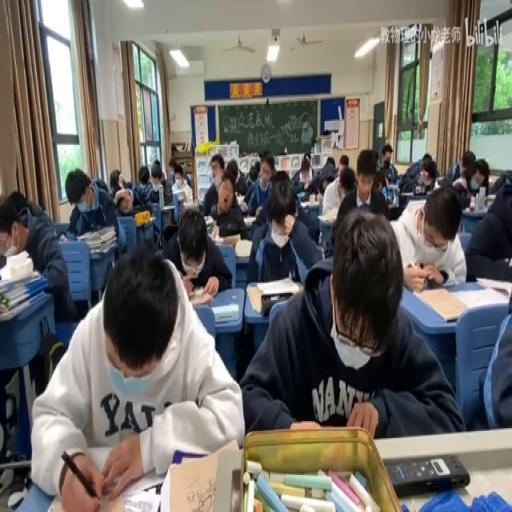calculator: (165, 449, 223, 512), (413, 286, 469, 321), (456, 284, 510, 310), (291, 242, 316, 286), (256, 276, 301, 294), (212, 302, 238, 324), (186, 288, 212, 306), (246, 284, 262, 312), (234, 236, 252, 256), (316, 208, 338, 224), (218, 232, 240, 247), (462, 202, 492, 213), (298, 194, 320, 208), (400, 189, 426, 198), (383, 185, 395, 203), (205, 216, 216, 235), (234, 192, 246, 208), (181, 200, 197, 212), (242, 215, 256, 226), (176, 188, 186, 200), (296, 189, 306, 199), (485, 193, 495, 202), (160, 204, 174, 210), (212, 236, 222, 243)
paper: (29, 243, 241, 509), (240, 209, 459, 440), (0, 189, 77, 326), (66, 168, 126, 291), (161, 204, 230, 298), (464, 174, 512, 283), (481, 303, 512, 429), (340, 148, 394, 219), (202, 155, 230, 218), (396, 151, 437, 193), (449, 155, 480, 206), (287, 154, 315, 196), (133, 163, 156, 212), (226, 155, 247, 195), (487, 168, 510, 195), (108, 168, 126, 196), (473, 161, 488, 186), (167, 156, 178, 182), (382, 166, 397, 185), (181, 162, 191, 189), (371, 172, 384, 192), (94, 176, 108, 194), (247, 160, 259, 180), (382, 142, 392, 164), (462, 148, 474, 166), (274, 169, 288, 182), (338, 155, 348, 169), (151, 158, 161, 171), (325, 156, 334, 170), (421, 151, 430, 165), (302, 155, 310, 169), (322, 180, 330, 194), (174, 175, 182, 186), (160, 175, 166, 186)
person: (386, 454, 470, 496), (261, 292, 293, 316), (230, 468, 242, 510)
